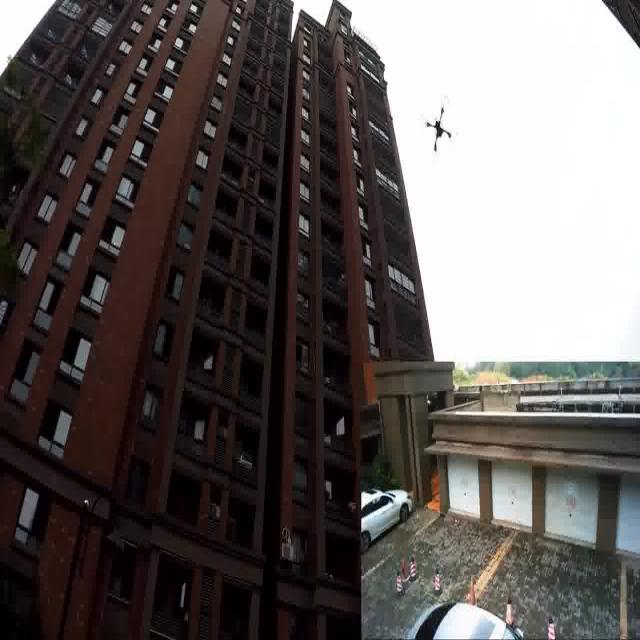drone: (422, 98, 454, 151)
